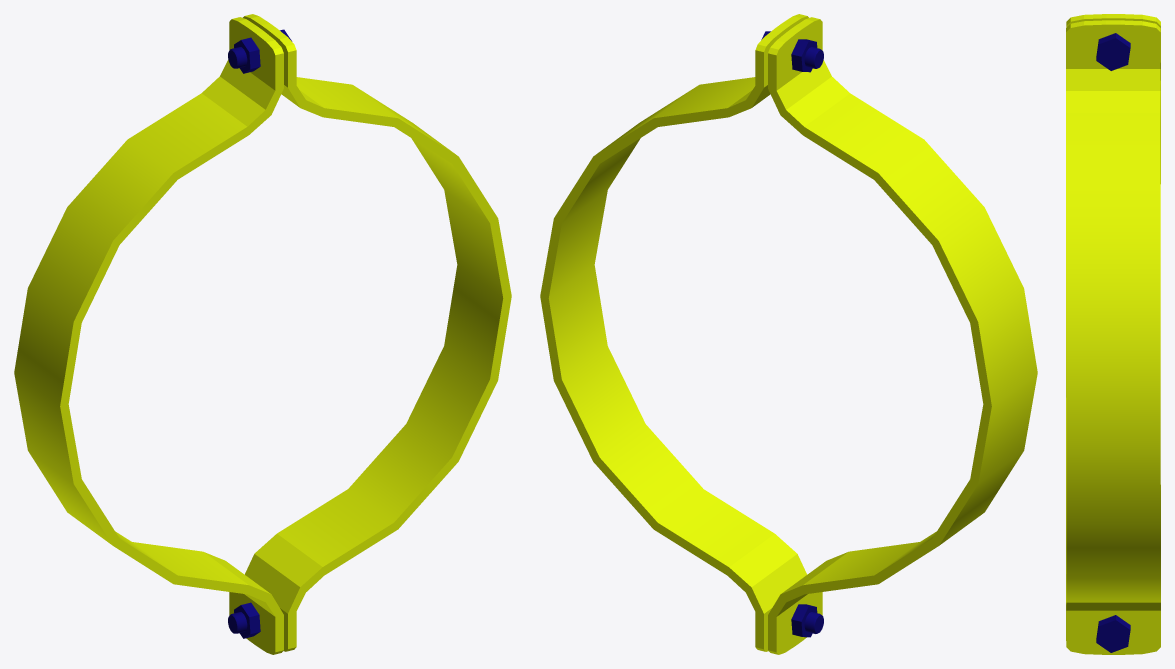
File: Support_02_Full.FBX
The picture shows the model from 3 angles, left to right: view 1: azimuth 30°, elevation 25°; view 2: azimuth 150°, elevation 25°; view 3: azimuth 270°, elevation 25°; orthographic projection. The views are drawn at different scales.
Visible parts, largest first — view 1: Support_02_Low, Bolt; view 2: Support_02_Low, Bolt; view 3: Support_02_Low, Bolt.
Boxes of the visible parts, left/top/right/bottom form: Support_02_Low: left=14, top=14, right=511, bottom=654; Bolt: left=228, top=29, right=292, bottom=638; Support_02_Low: left=540, top=14, right=1037, bottom=654; Bolt: left=761, top=31, right=823, bottom=637; Support_02_Low: left=1066, top=14, right=1160, bottom=654; Bolt: left=1096, top=33, right=1130, bottom=652.
Size of the model in its own units: 32.02 by 41.45 by 5.65.
